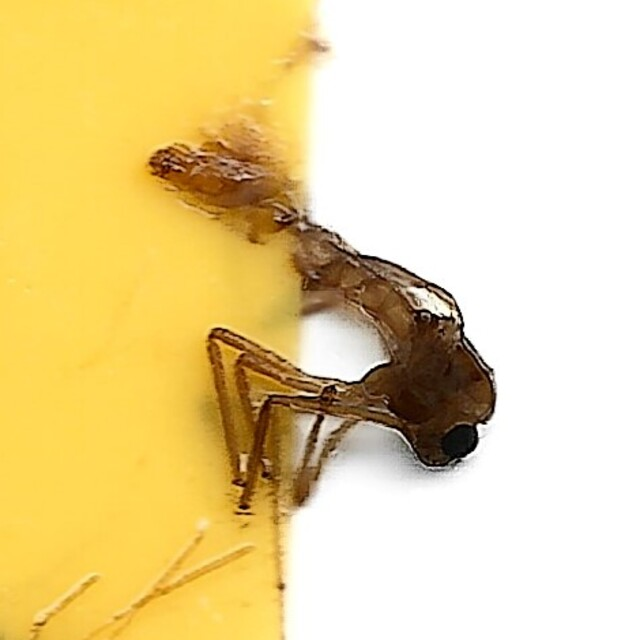Nematocera: (136, 127, 504, 513)
